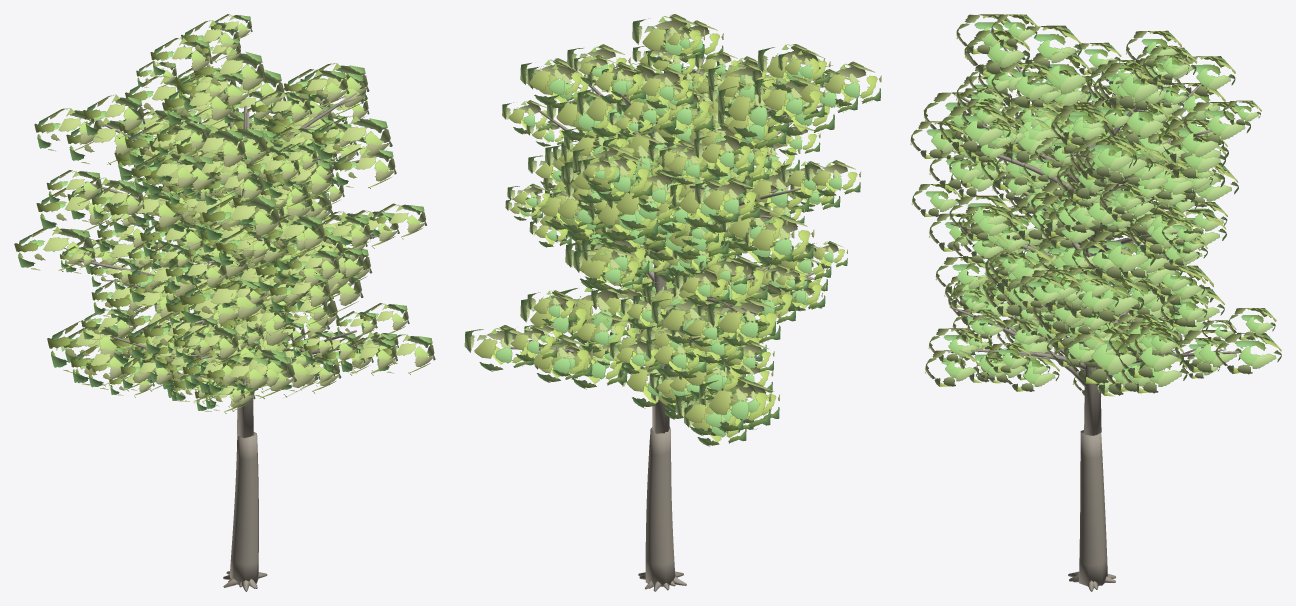
File: ginkgo.glb
3 views of the same model, side by side, from view 1: azimuth 30°, elevation 25°; view 2: azimuth 150°, elevation 25°; view 3: azimuth 270°, elevation 25° (orthographic). The views are drawn at different scales.
Parts seen in each view (by area): view 1: GinkgoTree_5, GinkgoTree_2, GinkgoTree_4, GinkgoTree_1, GinkgoTree_3; view 2: GinkgoTree_5, GinkgoTree_3, GinkgoTree_2, GinkgoTree_1, GinkgoTree_4; view 3: GinkgoTree_3, GinkgoTree_5, GinkgoTree_2, GinkgoTree_1, GinkgoTree_4.
Part boxes in pixels (left/top/right/bottom): GinkgoTree_5: left=47, top=14, right=372, bottom=587; GinkgoTree_2: left=14, top=85, right=396, bottom=591; GinkgoTree_4: left=36, top=177, right=435, bottom=588; GinkgoTree_1: left=46, top=61, right=397, bottom=588; GinkgoTree_3: left=34, top=94, right=426, bottom=587; GinkgoTree_5: left=505, top=44, right=847, bottom=591; GinkgoTree_3: left=464, top=61, right=881, bottom=588; GinkgoTree_2: left=502, top=14, right=835, bottom=590; GinkgoTree_1: left=553, top=44, right=860, bottom=586; GinkgoTree_4: left=545, top=129, right=840, bottom=589; GinkgoTree_3: left=956, top=14, right=1281, bottom=585; GinkgoTree_5: left=935, top=30, right=1228, bottom=589; GinkgoTree_2: left=910, top=76, right=1238, bottom=585; GinkgoTree_1: left=928, top=14, right=1261, bottom=591; GinkgoTree_4: left=911, top=99, right=1182, bottom=585.
Bounding box in the file's own units: 3.74 × 5.47 × 3.42.
2 materials, 1 textured.
